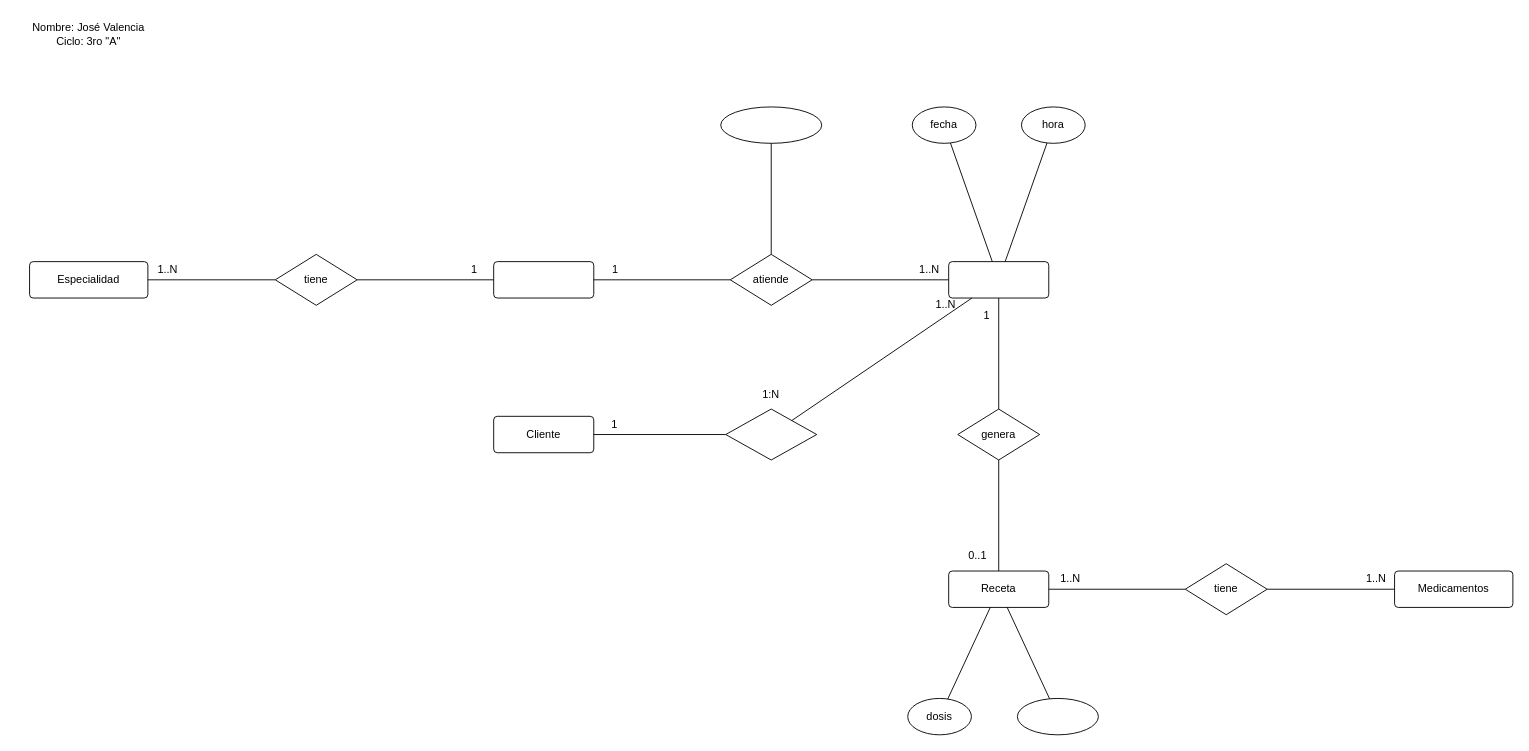
Image size: 1529x751. Some labels were removed from this diagram. Here are the shapes that lost their labels. From the top down, the centre of each, then its label:
At point (771, 124): "consultorio".
At point (543, 279): "Médico".
At point (998, 279): "Cita".
At point (771, 434): "solicita".
At point (1057, 716): "duración".
